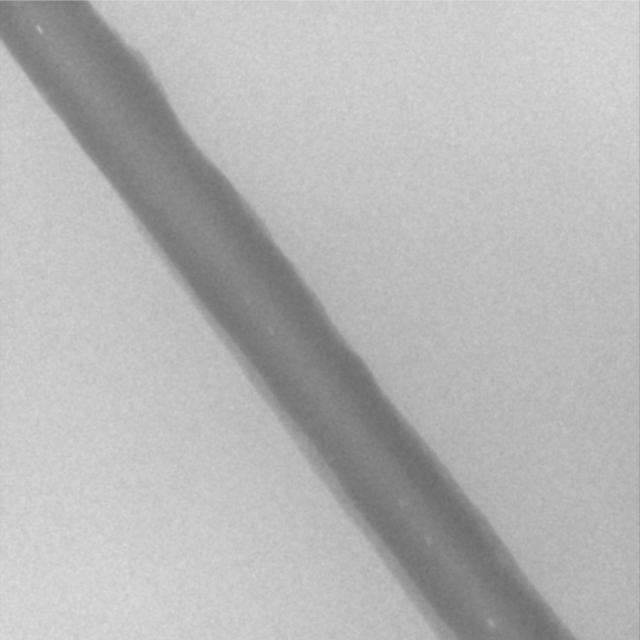air hole: (485, 616, 497, 628), (423, 533, 434, 546)
